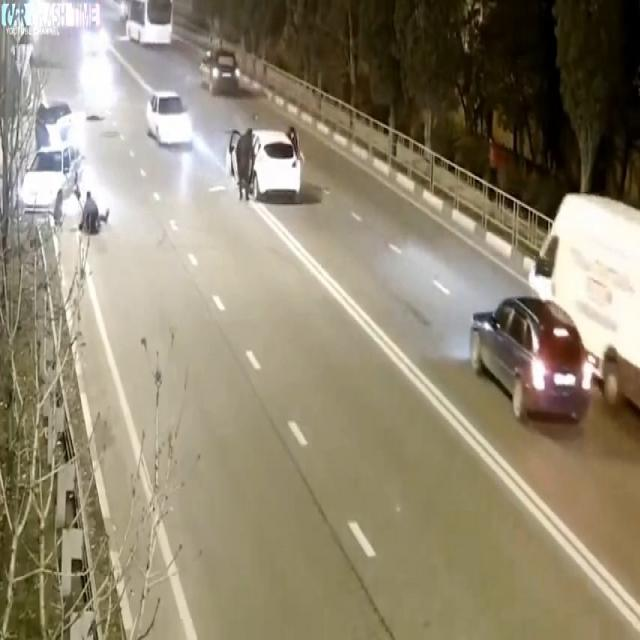Accident: (9, 75, 92, 230)
